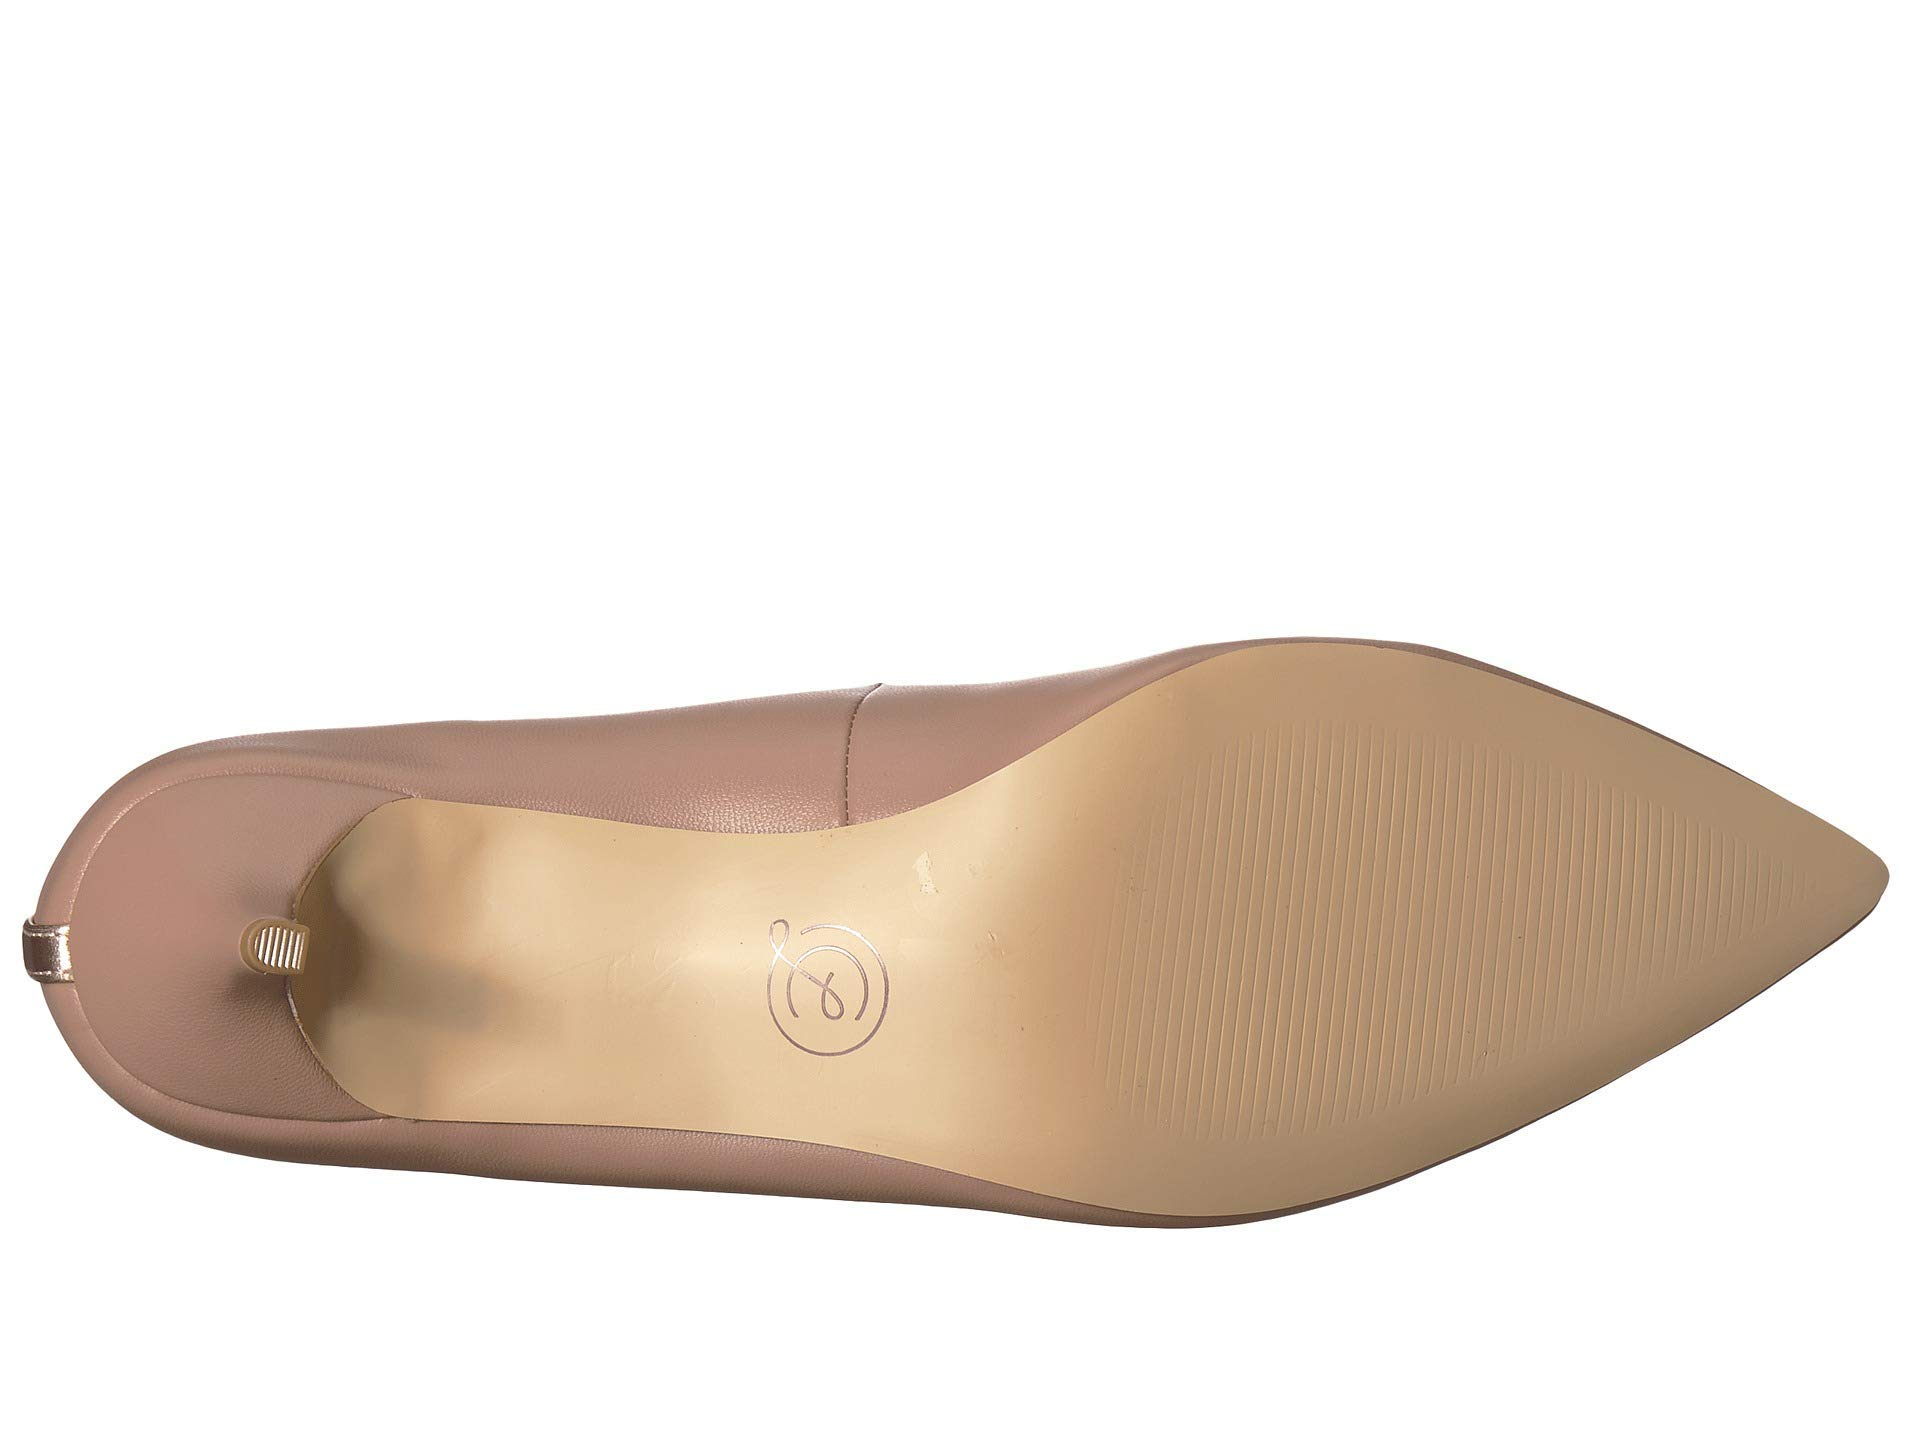exclude: (429, 669, 1058, 1296)
line: (1178, 740, 1572, 1059), (246, 917, 321, 979)
